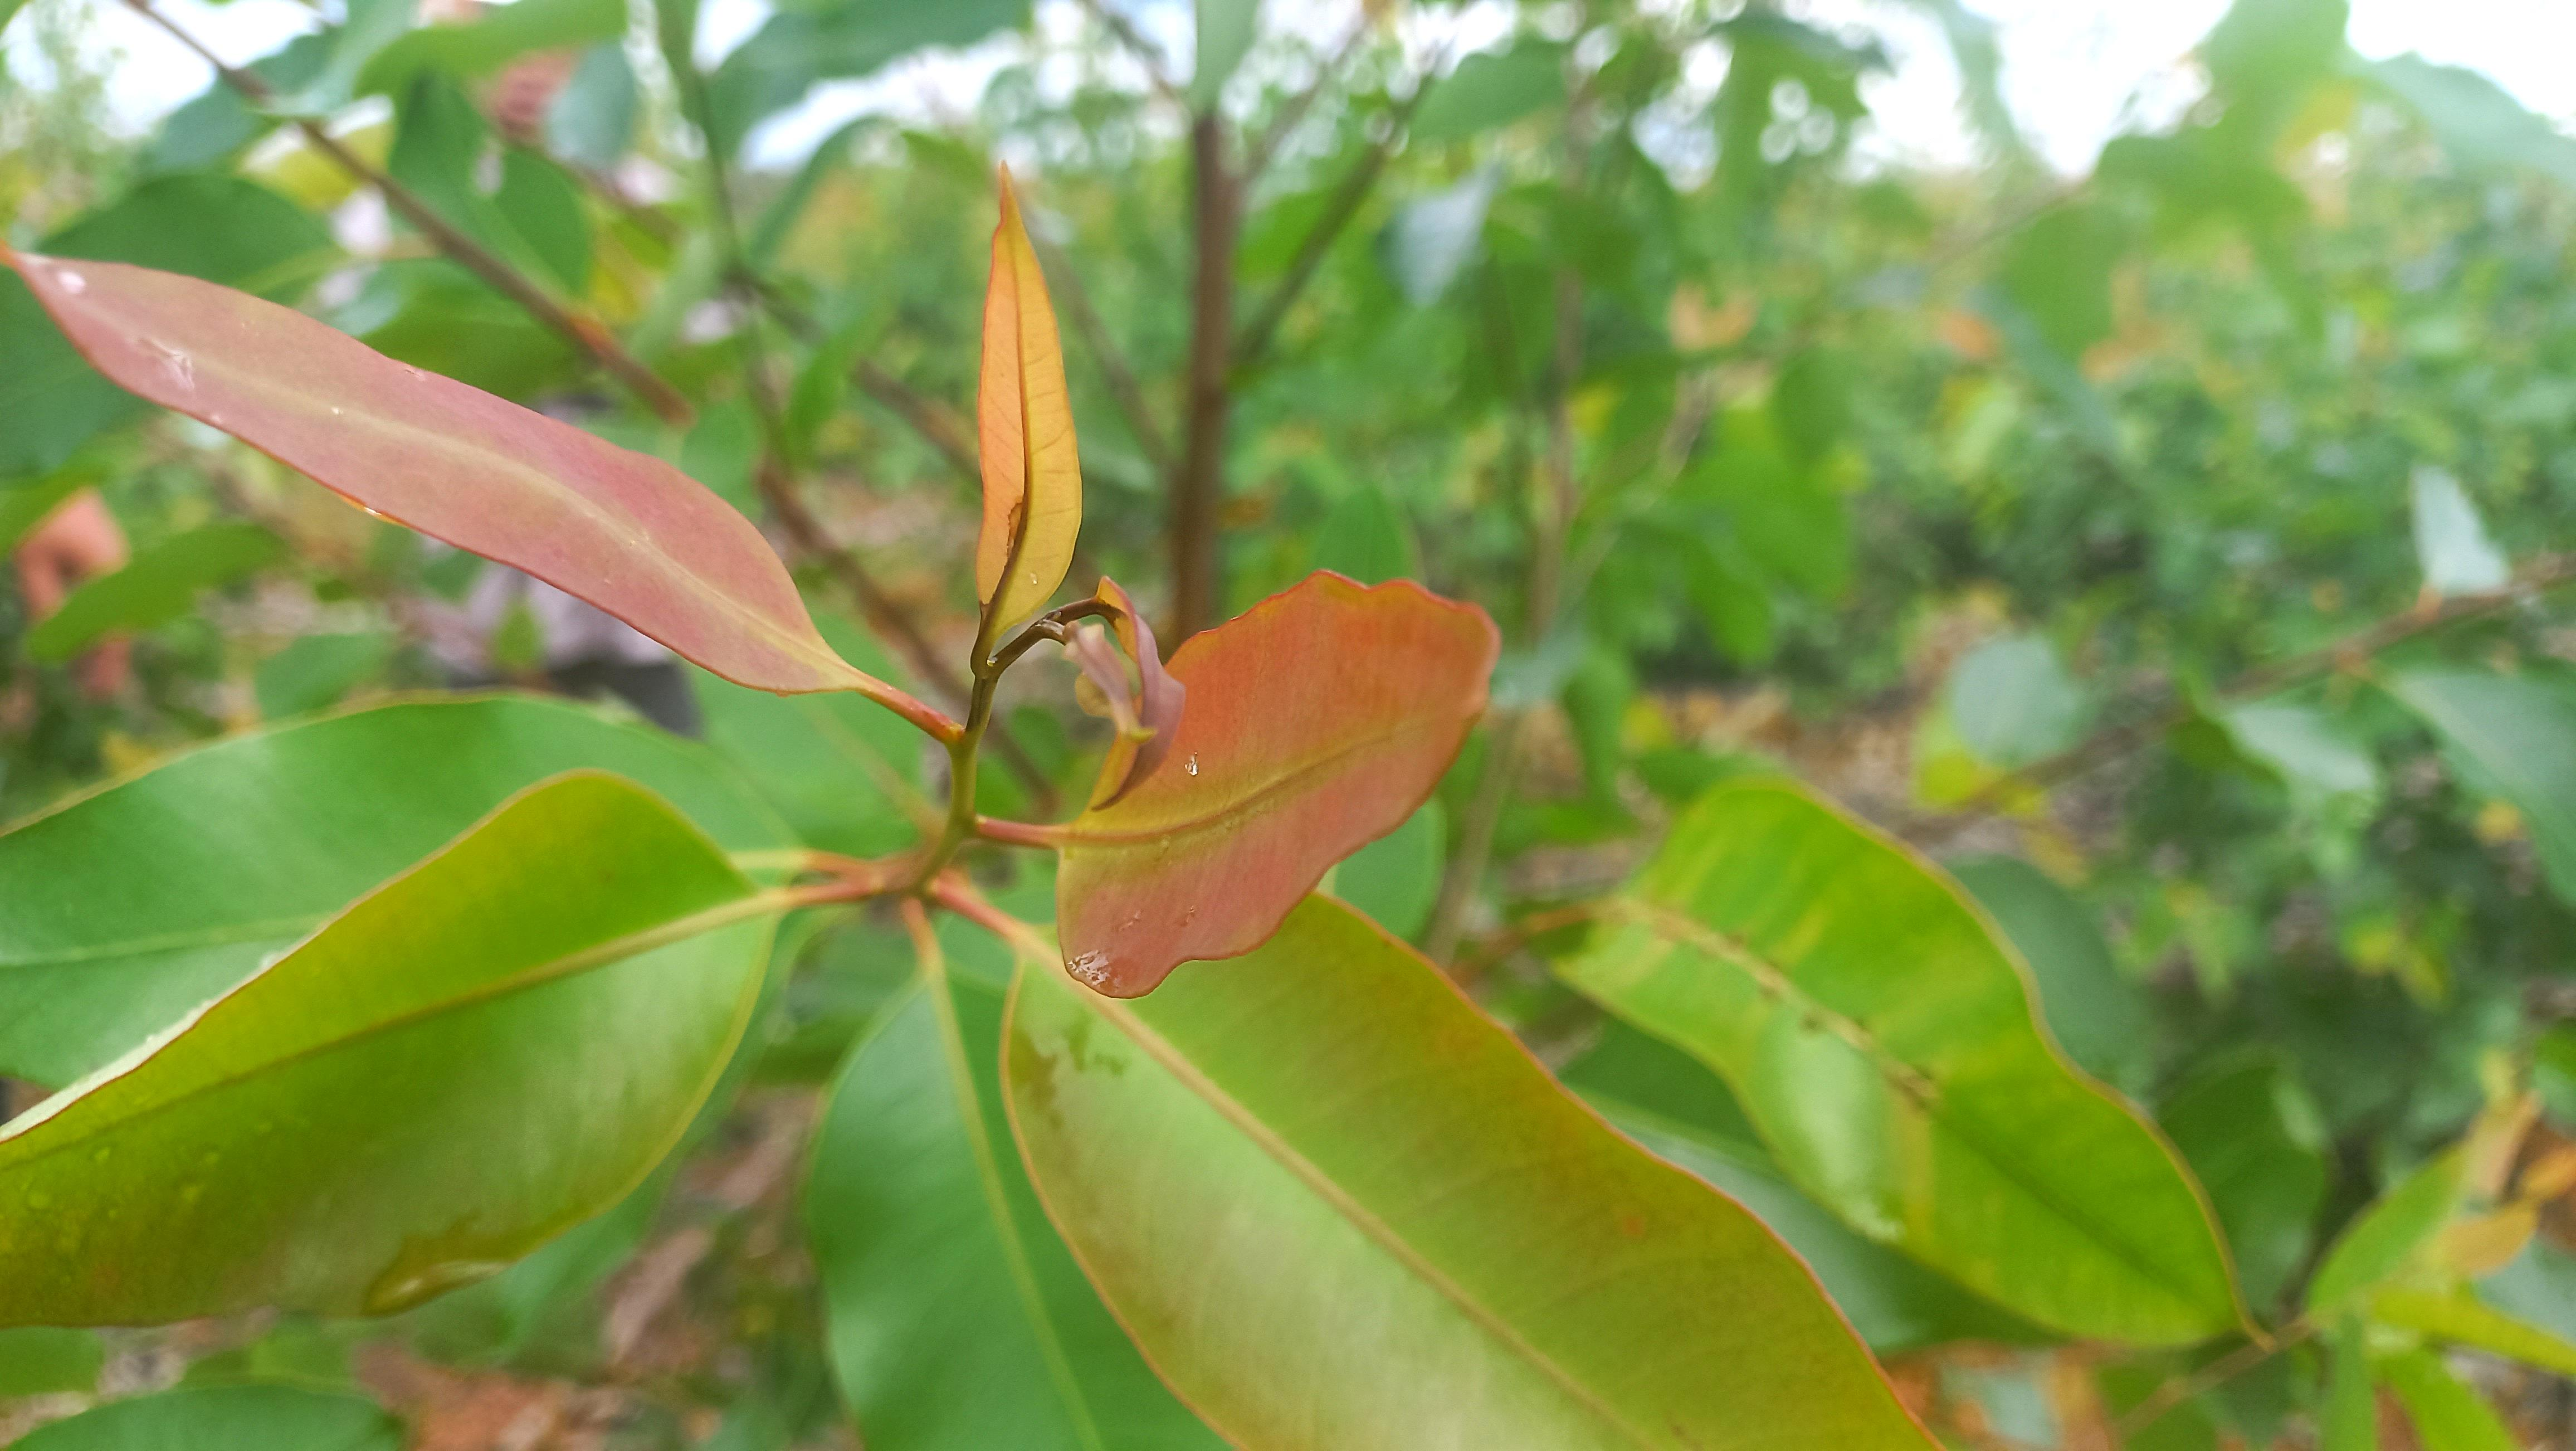Helopeltis-Withered Sprout: (1079, 672, 1419, 1025), (964, 156, 1083, 619), (1090, 573, 1182, 809), (1053, 619, 1162, 752)
